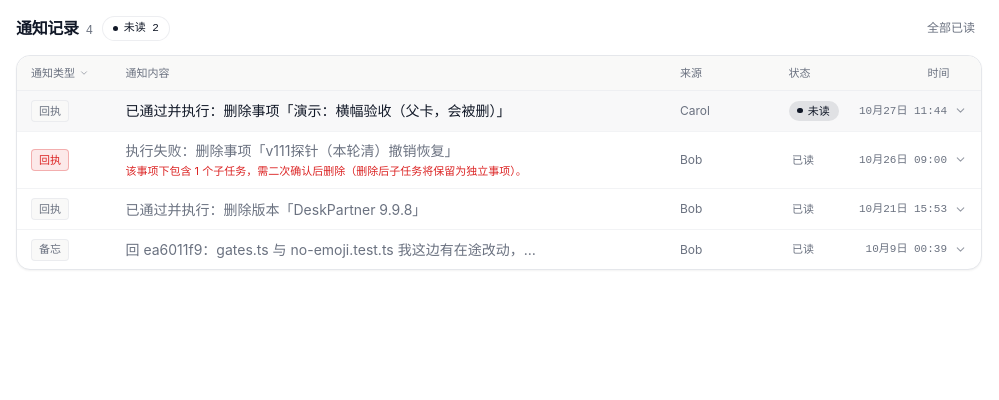
Scenario: NotificationsView 视觉与人话化改造验证 › 2. 彻底消除 todo rm / release rm 等命令前缀与 --force / --yes 底层回执，来源显示 Agent 友好名称
Expected: the text "已通过并执行：删除事项「演示：横幅验收（父卡，会被删）」" is shown, [126,102,510,119]
Expected: the text "执行失败：删除事项「v111探针（本轮清）撤销恢复」" is shown, [126,142,458,159]
Click the text "已通过并执行：删除版本「DeskPartner 9.9.8」" at point(276, 209), box [126,200,426,218]
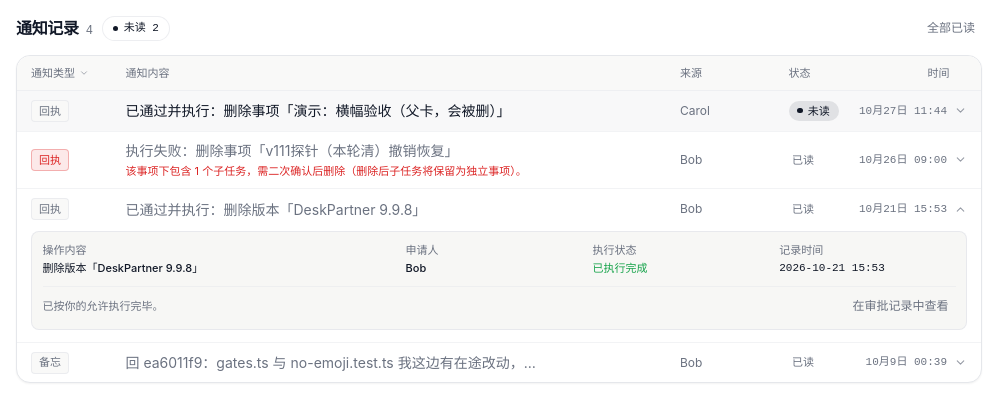
Expected: the button "在审批记录中查看" is shown, [846,294,956,318]
